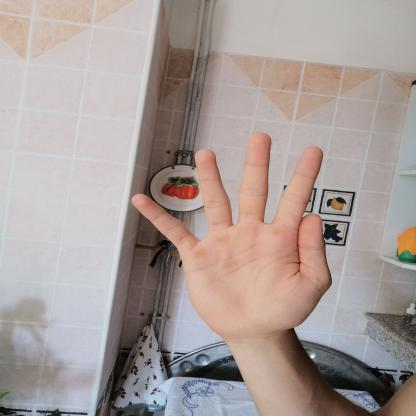SHEEN: (121, 125, 347, 344)
